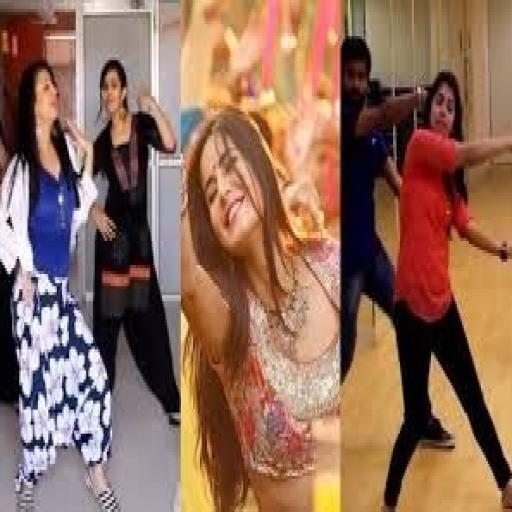dancing: (179, 102, 343, 509), (380, 66, 510, 509), (0, 57, 124, 509), (88, 54, 183, 434)
